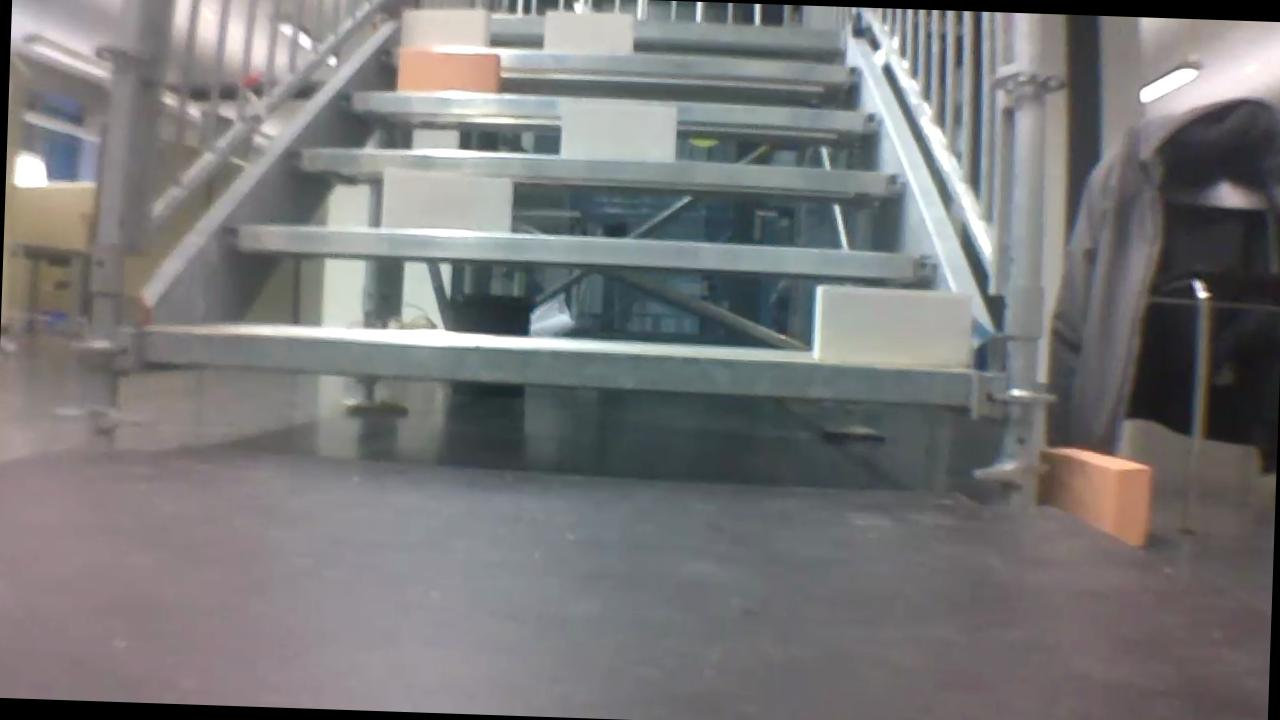brick: (814, 285, 968, 363), (1044, 447, 1149, 545), (381, 171, 511, 232), (560, 102, 674, 161), (399, 47, 500, 93), (544, 10, 633, 52), (402, 9, 490, 48)
edge: (139, 327, 972, 404), (232, 224, 940, 279), (295, 148, 905, 194), (340, 89, 881, 135), (379, 44, 863, 82), (409, 11, 842, 45)
